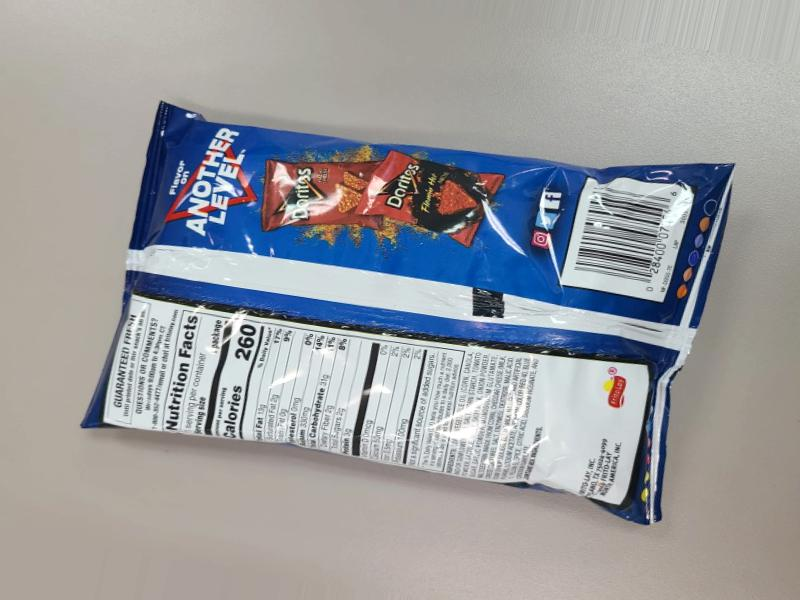doritos: (139, 149, 744, 530)
